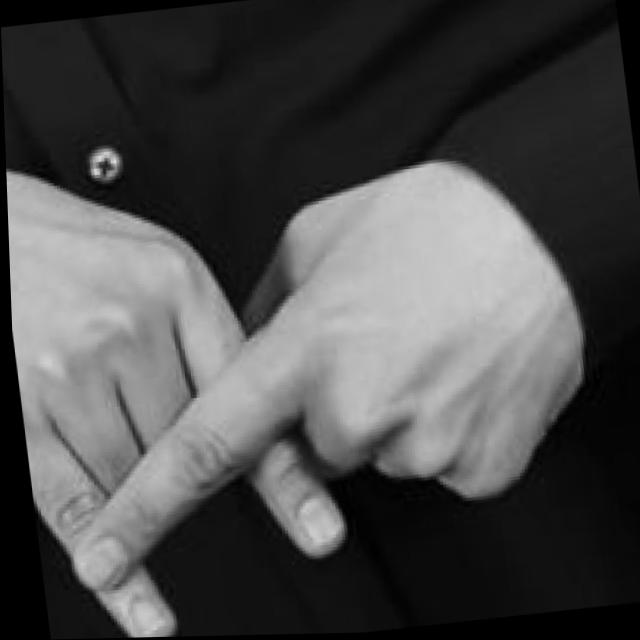H: (3, 76, 614, 640)
